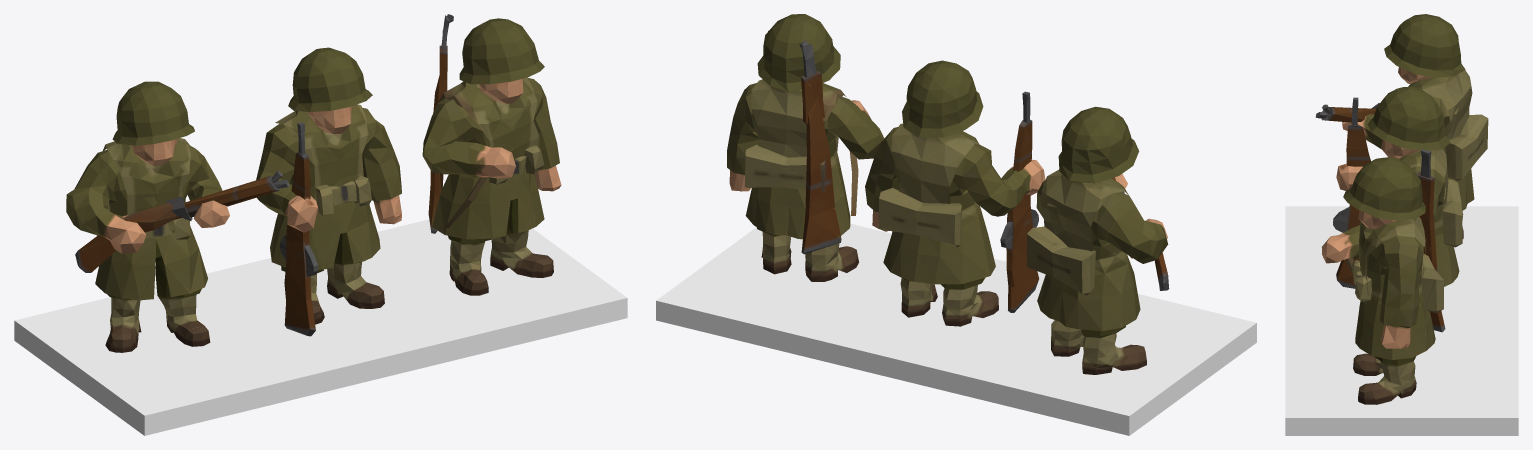
File: bulge_us_inf.glb
3 renders of one model, left to right at view 1: azimuth 30°, elevation 25°; view 2: azimuth 150°, elevation 25°; view 3: azimuth 270°, elevation 25°, orthographic. The views are drawn at different scales.
Parts seen in each view (by area): view 1: figura, colore_fazione; view 2: figura, colore_fazione; view 3: figura, colore_fazione.
Boxes of the visible parts, bbox=[...] form: figura: bbox=[66, 14, 561, 352]; colore_fazione: bbox=[14, 219, 627, 435]; figura: bbox=[727, 14, 1169, 374]; colore_fazione: bbox=[656, 223, 1256, 435]; figura: bbox=[1315, 14, 1488, 404]; colore_fazione: bbox=[1285, 206, 1518, 435].
Size of the model in its own units: 1.5 by 0.8112 by 0.7.
2 materials, 1 textured.
